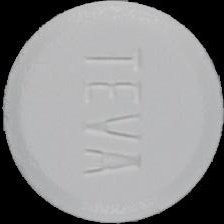16590-475: (0, 0, 224, 224)
